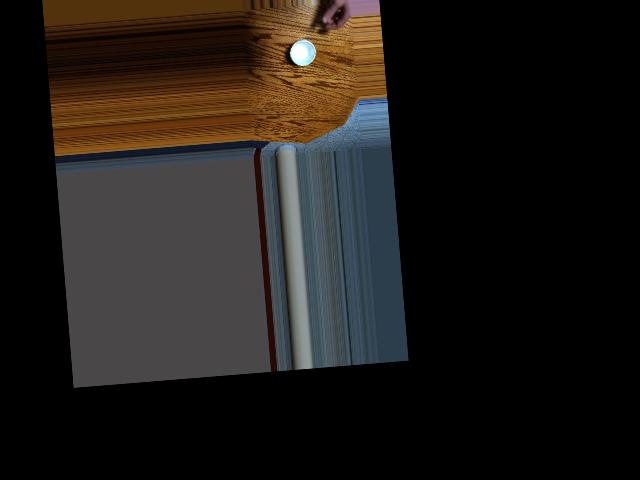cotage: (289, 33, 320, 68)
